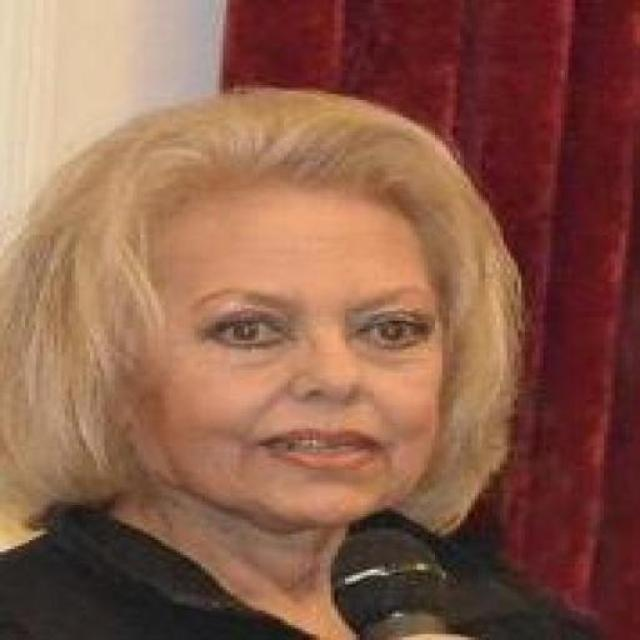bareface: (128, 177, 462, 521)
